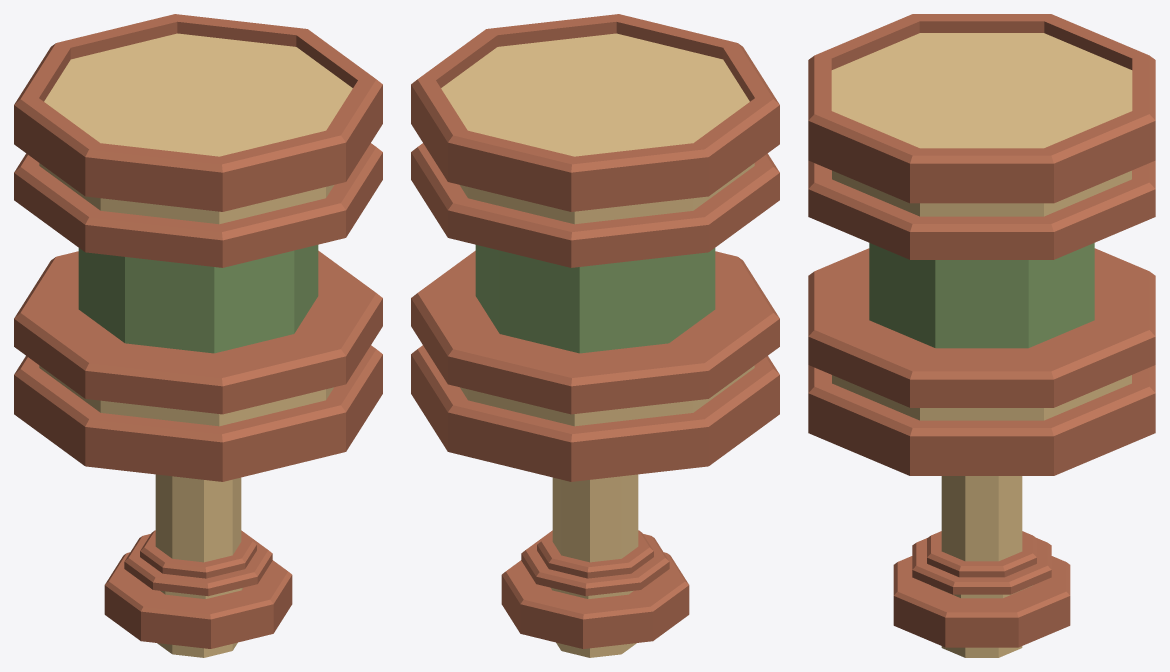
Rendered from Room4CenterPiece.fbx.
The picture shows the model from 3 angles, left to right: view 1: azimuth 30°, elevation 25°; view 2: azimuth 150°, elevation 25°; view 3: azimuth 270°, elevation 25°; orthographic projection.
Visible parts, largest first — view 1: Cylinder, Cylinder.001; view 2: Cylinder, Cylinder.001; view 3: Cylinder, Cylinder.001.
Boxes of the visible parts, x1,y1,x2,y2 form: Cylinder: [14, 14, 382, 657]; Cylinder.001: [104, 530, 292, 648]; Cylinder: [411, 14, 779, 657]; Cylinder.001: [501, 530, 689, 648]; Cylinder: [808, 14, 1155, 657]; Cylinder.001: [893, 531, 1070, 647].
Bounding box in the file's own units: 2772 × 4898 × 2772.
